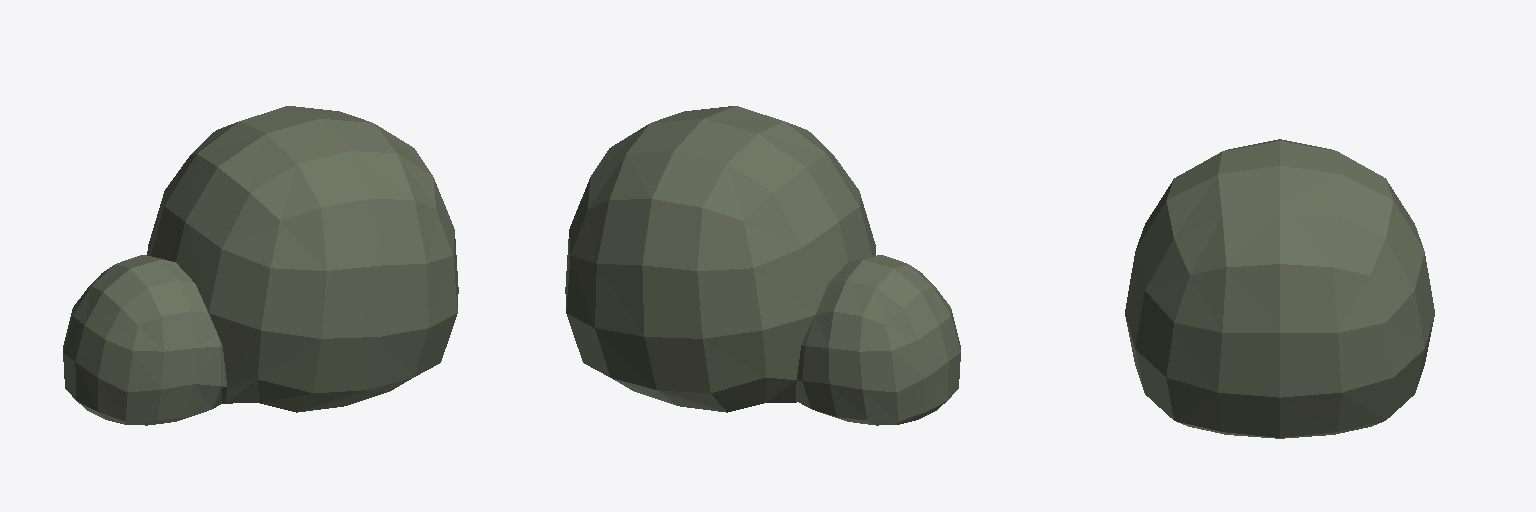
Rendered from Cloud_1.obj.
3 renders of one model, left to right at view 1: azimuth 30°, elevation 25°; view 2: azimuth 150°, elevation 25°; view 3: azimuth 270°, elevation 25°, orthographic.
Parts seen in each view (by area): view 1: Cloud_1_Cube.302; view 2: Cloud_1_Cube.302; view 3: Cloud_1_Cube.302.
Part boxes in pixels (x1,y1,x2,y2): Cloud_1_Cube.302: (63,106,458,425); Cloud_1_Cube.302: (565,106,960,425); Cloud_1_Cube.302: (1125,139,1434,438).
Size of the model in its own units: 3.29 by 2.12 by 2.45.